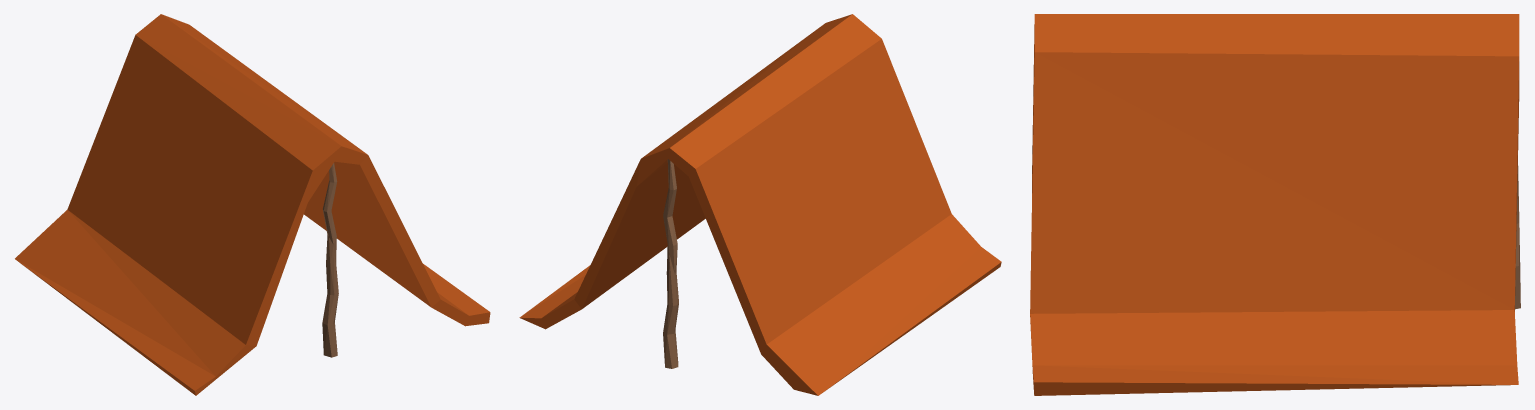
File: tent_orange.fbx
3 views of the same model, side by side, from view 1: azimuth 30°, elevation 25°; view 2: azimuth 150°, elevation 25°; view 3: azimuth 270°, elevation 25° (orthographic). The views are drawn at different scales.
Visible parts, largest first — view 1: tent_orange.001; view 2: tent_orange.001; view 3: tent_orange.001.
Part boxes in pixels (x1,y1,x2,y2): tent_orange.001: (15,14,490,395); tent_orange.001: (519,14,1001,395); tent_orange.001: (1030,14,1520,395).
Size of the model in its own units: 278 by 196 by 299.
